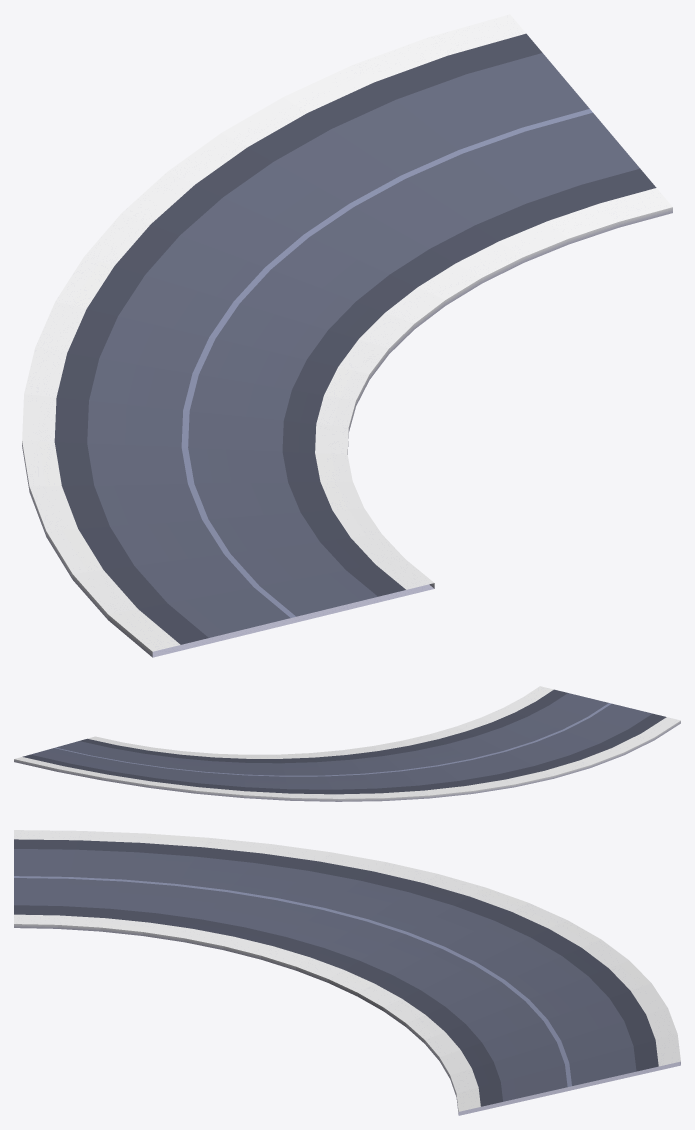
File: road-Turn-Flat-HalfBankedRight-Even-Right-Size3.glb
3 views of the same model, one above another, from view 1: azimuth 30°, elevation 25°; view 2: azimuth 150°, elevation 25°; view 3: azimuth 270°, elevation 25° (orthographic). The views are drawn at different scales.
Parts seen in each view (by area): view 1: road-Turn-Flat-HalfBankedRight-Even-Right-Size3; view 2: road-Turn-Flat-HalfBankedRight-Even-Right-Size3; view 3: road-Turn-Flat-HalfBankedRight-Even-Right-Size3.
Boxes of the visible parts, bbox=[...] form: road-Turn-Flat-HalfBankedRight-Even-Right-Size3: bbox=[22, 14, 672, 657]; road-Turn-Flat-HalfBankedRight-Even-Right-Size3: bbox=[14, 686, 680, 801]; road-Turn-Flat-HalfBankedRight-Even-Right-Size3: bbox=[14, 830, 680, 1115].
Bounding box in the file's own units: 3 × 0.27 × 3.
Materials: 1 (1 with a texture image).
